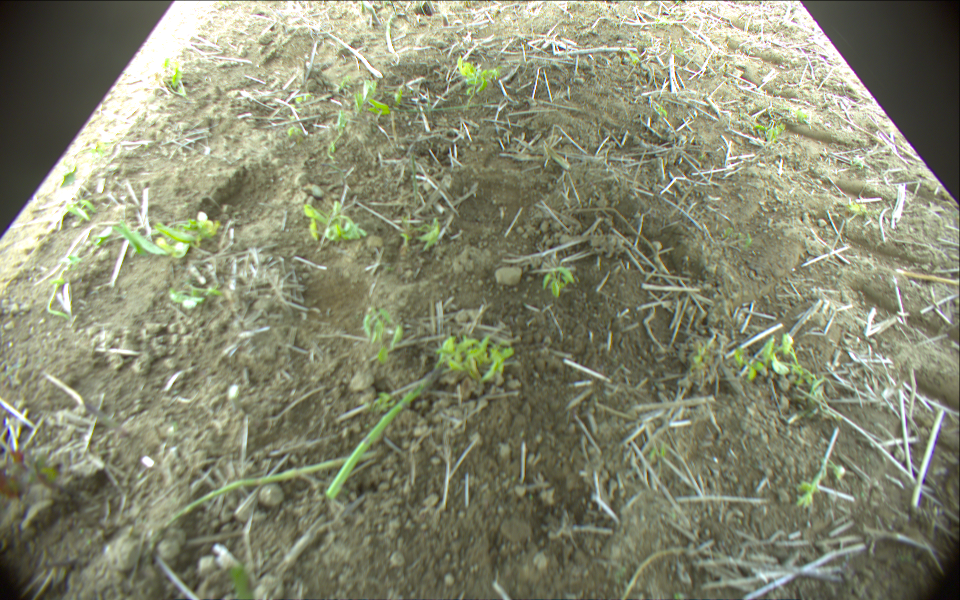aspa: (162, 448, 378, 532), (325, 365, 445, 504)
